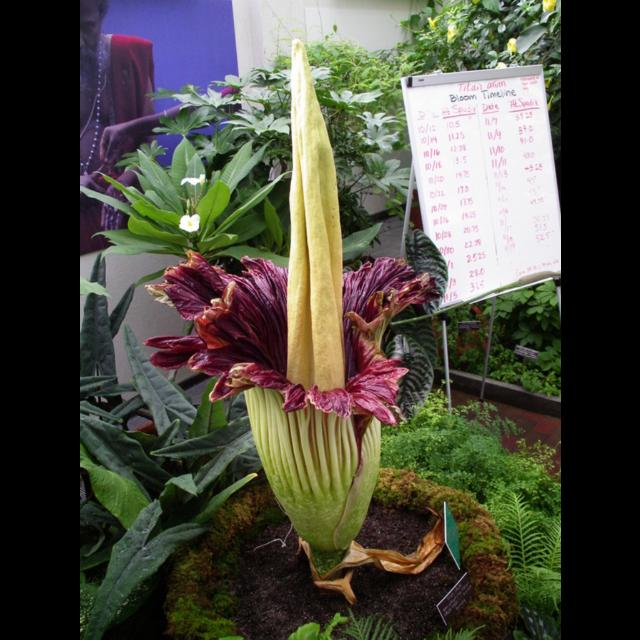Flower: (138, 39, 438, 564), (178, 170, 208, 186), (180, 213, 200, 231), (540, 0, 558, 12), (505, 37, 515, 55), (492, 60, 508, 70), (424, 16, 436, 28), (446, 28, 454, 40)
